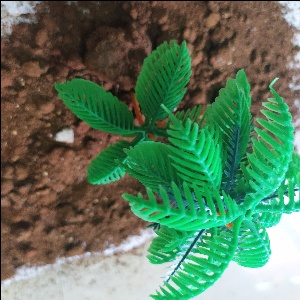plant: (53, 41, 300, 299)
